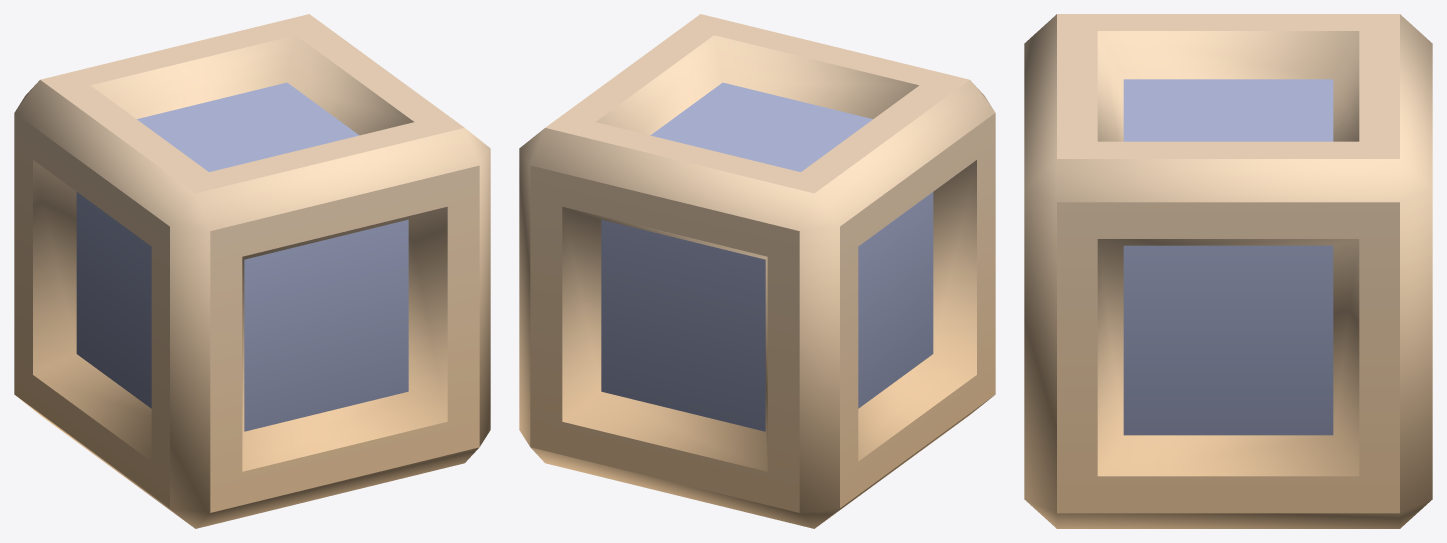
File: crate-item.glb
3 views of the same model, side by side, from view 1: azimuth 30°, elevation 25°; view 2: azimuth 150°, elevation 25°; view 3: azimuth 270°, elevation 25° (orthographic). The views are drawn at different scales.
Parts seen in each view (by area): view 1: crate-item; view 2: crate-item; view 3: crate-item.
Boxes of the visible parts, bbox=[...] form: crate-item: bbox=[14, 14, 490, 528]; crate-item: bbox=[519, 14, 995, 528]; crate-item: bbox=[1024, 14, 1432, 528].
Size of the model in its own units: 0.5 by 0.5 by 0.5.
